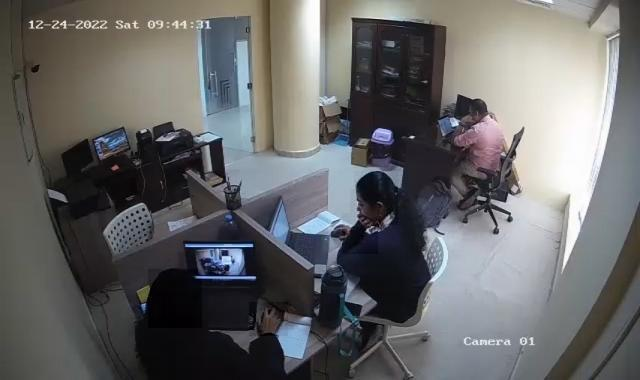no_apron: (342, 214, 378, 254), (250, 303, 288, 337), (328, 220, 359, 248), (456, 116, 479, 130)
no_gloves: (148, 269, 202, 328), (354, 172, 398, 226), (468, 97, 488, 123)
no_hairnet: (350, 190, 386, 227)
